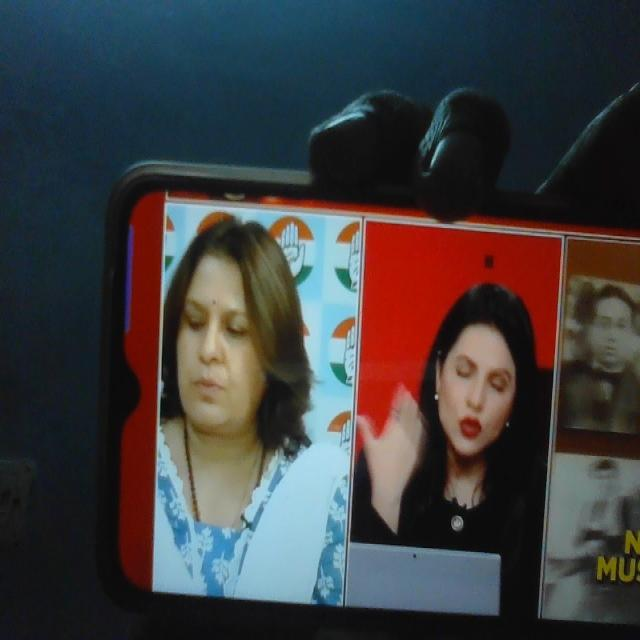fake: (168, 223, 283, 440), (422, 266, 534, 478)
